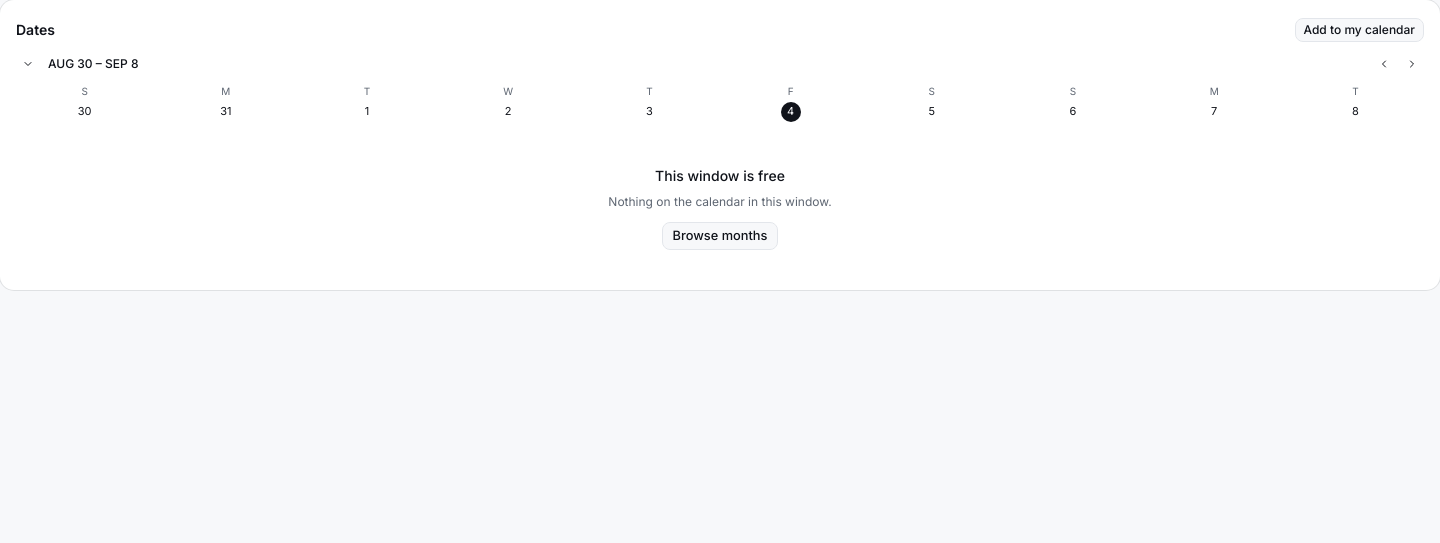
Test: DatesPanel › keeps the free-window CTA moving forward once the month grid is already open
Click the button "Browse months" at (720,236), box x1=662 y1=222 x2=778 y2=250
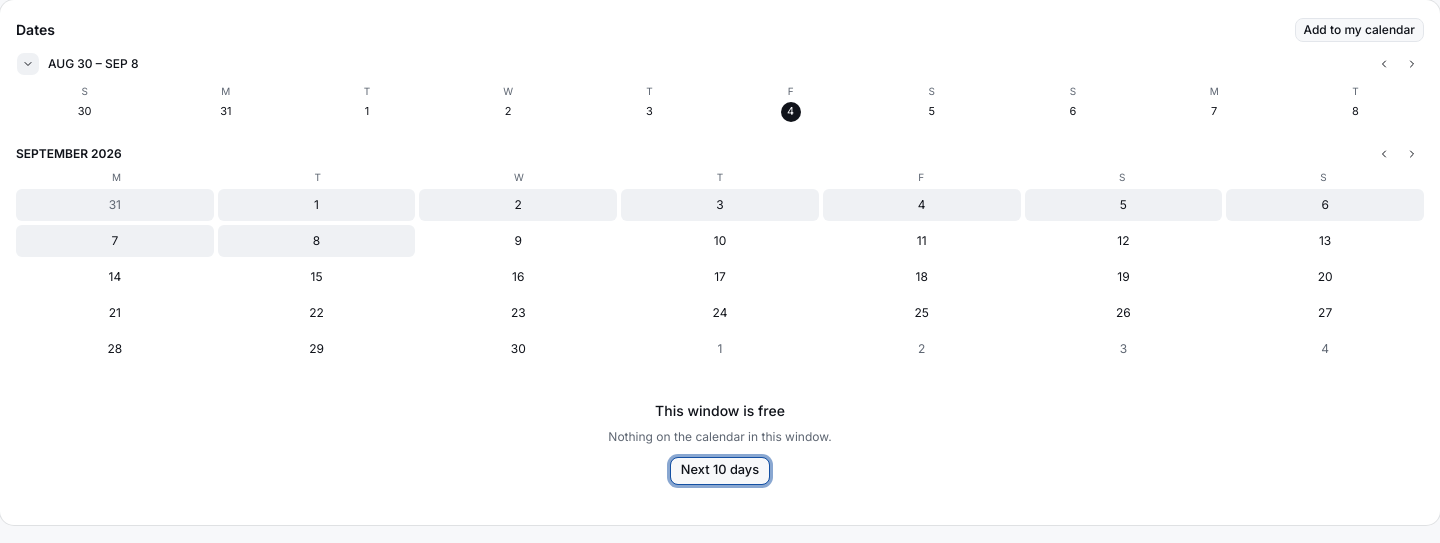
Expected: the text "SEPTEMBER 2026" is shown, x1=16 y1=146 x2=122 y2=162
Click the button "Next 10 days" at (720,471), box x1=670 y1=457 x2=770 y2=485
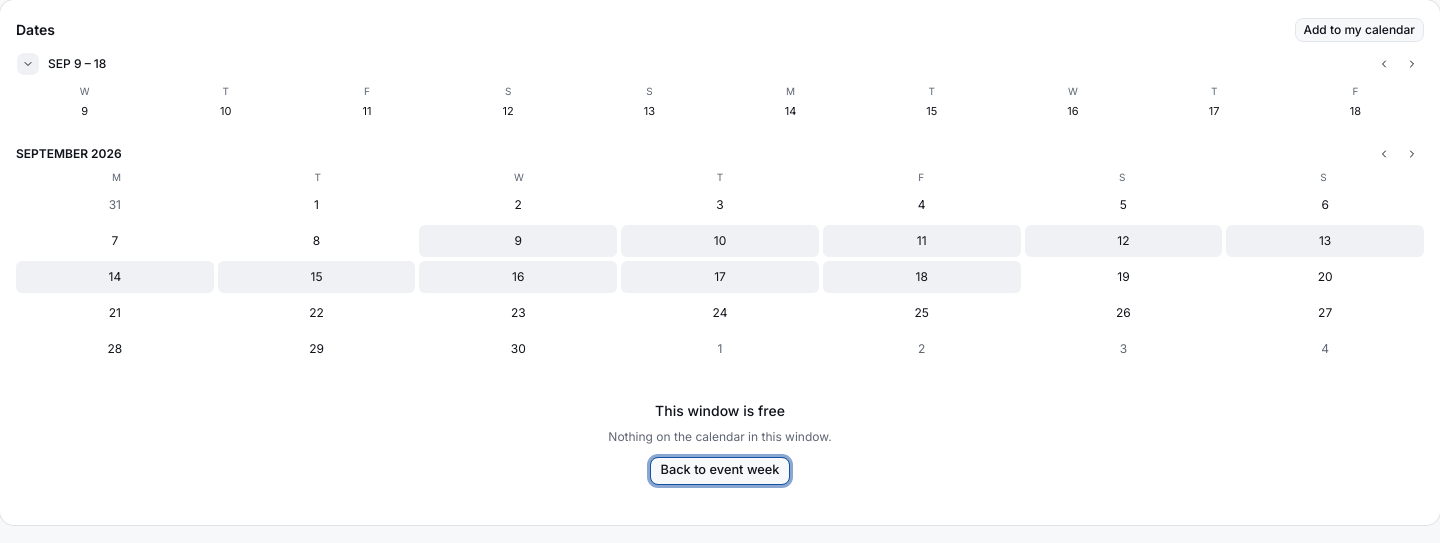
Expected: the text "SEP 9 – 18" is shown, x1=48 y1=56 x2=106 y2=72
